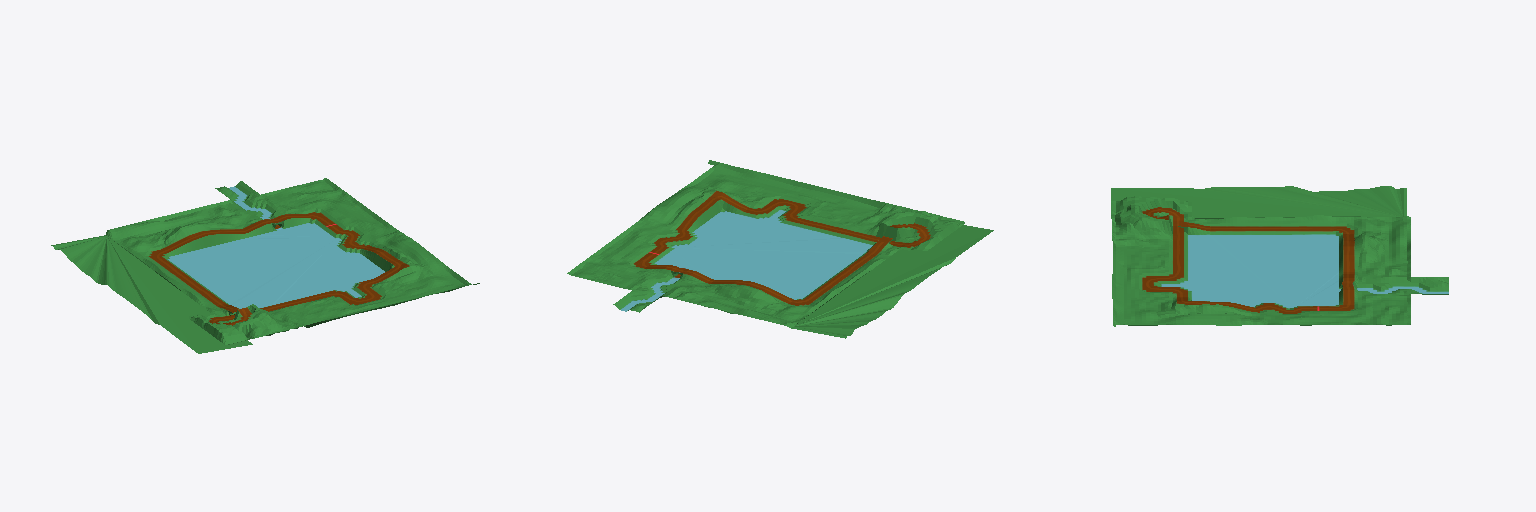
The picture shows the model from 3 angles: view 1: azimuth 30°, elevation 25°; view 2: azimuth 150°, elevation 25°; view 3: azimuth 270°, elevation 25°; orthographic projection.
Bounding box in the file's own units: 37.68 × 2.2 × 38.82.
1 materials, 1 textured.